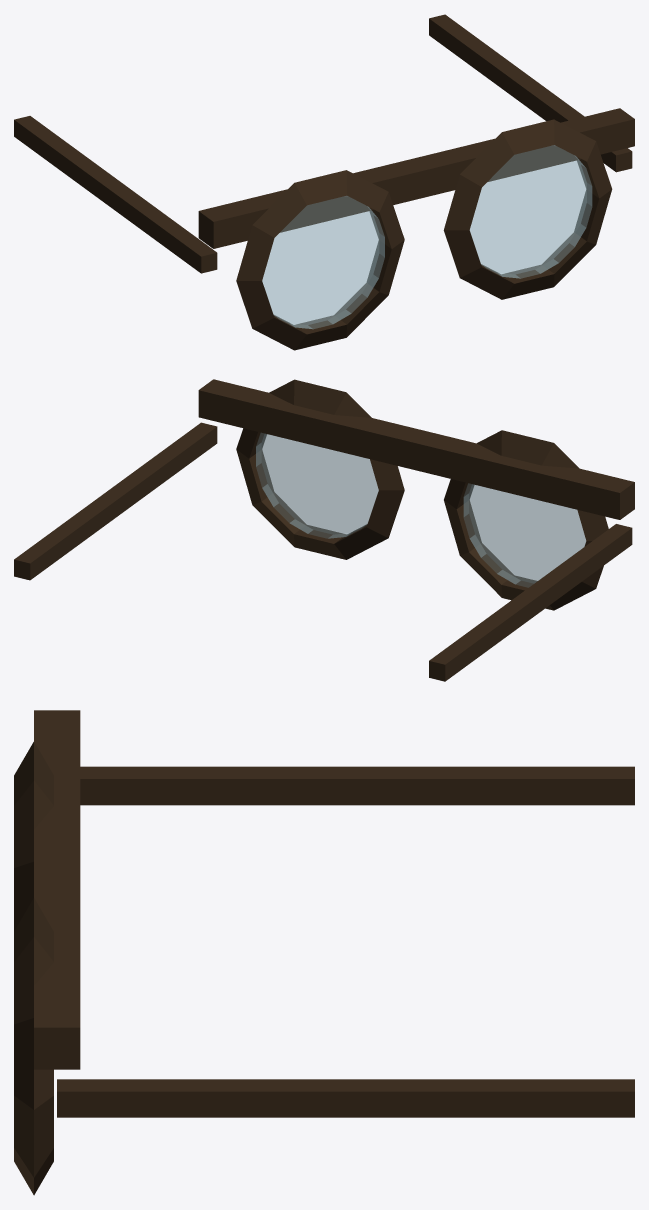
File: glasses.fbx
3 renders of one model, top to bottom at view 1: azimuth 30°, elevation 25°; view 2: azimuth 150°, elevation 25°; view 3: azimuth 270°, elevation 25°, orthographic. The views are drawn at different scales.
Parts seen in each view (by area): view 1: glasses; view 2: glasses; view 3: glasses.
Part boxes in pixels (left/top/right/bottom): glasses: left=14, top=14, right=634, bottom=350; glasses: left=14, top=379, right=634, bottom=681; glasses: left=14, top=710, right=634, bottom=1195.
Size of the model in its own units: 0.532 by 0.1978 by 0.4299.
